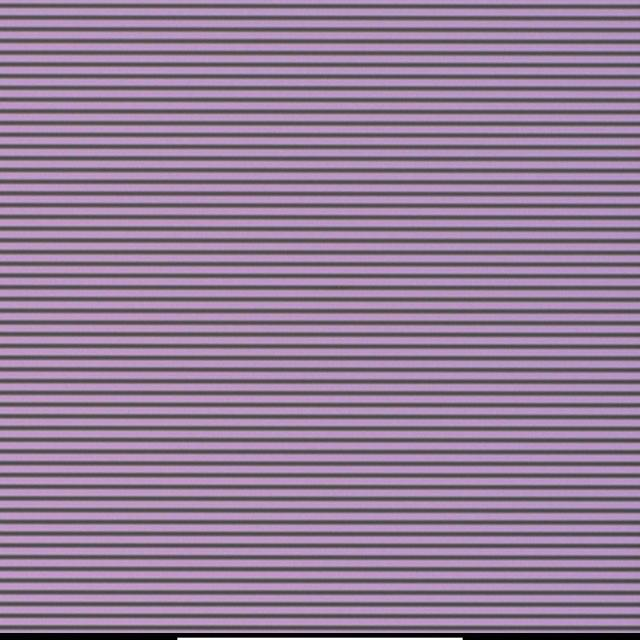03_intrusion: (334, 282, 343, 294)
